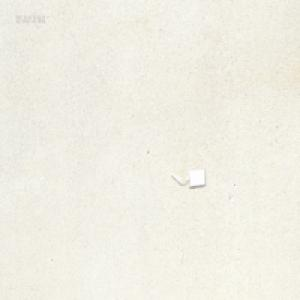LuggageTag: (170, 167, 205, 188)
